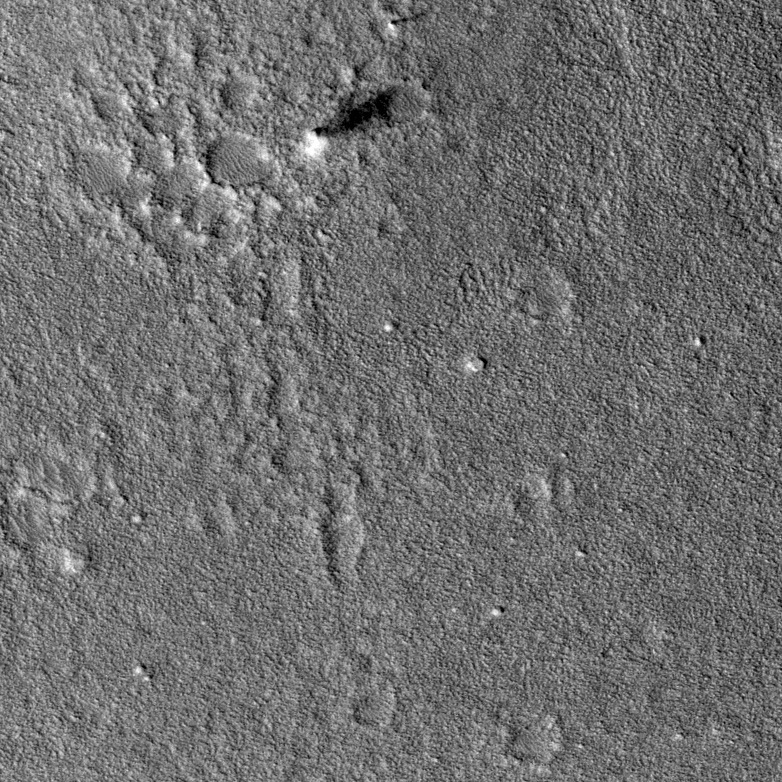dust_devil: (301, 84, 404, 160), (386, 11, 427, 38)
